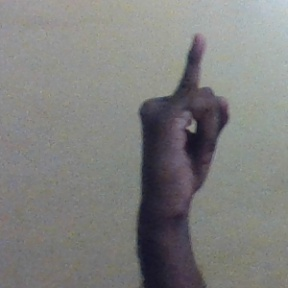I: (139, 31, 235, 200)
